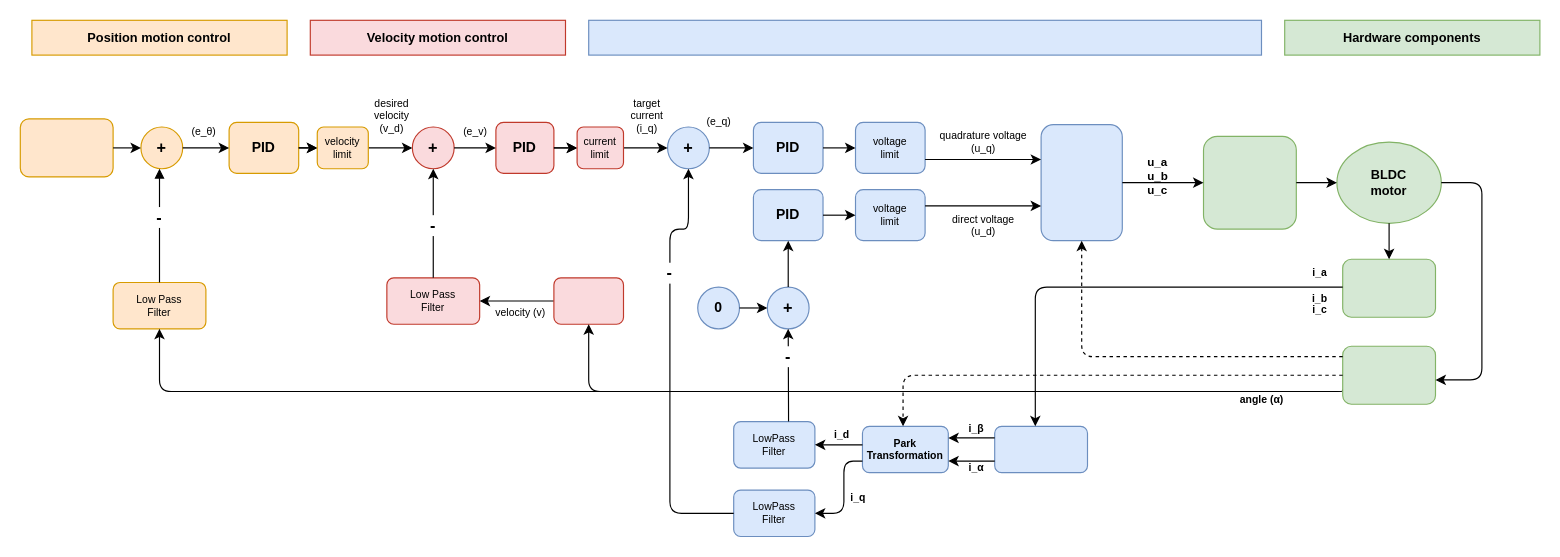
Some shapes in this 1560 by 557 pixel diagram are drawn without their labels. Each missing label, with the box of its shape:
Clarke Transformation: (994, 425, 1088, 473)
Current Sensor: (1342, 258, 1436, 317)
d/dt: (553, 277, 624, 324)
desired angle (θ_d): (19, 118, 113, 177)
Inverse Park + Inverse Clarke: (1040, 124, 1122, 241)
Position Sensor: (1342, 345, 1436, 404)
SVPWM: (1202, 135, 1296, 229)
Torque control using the Field Oriented Control: (588, 19, 1262, 55)
